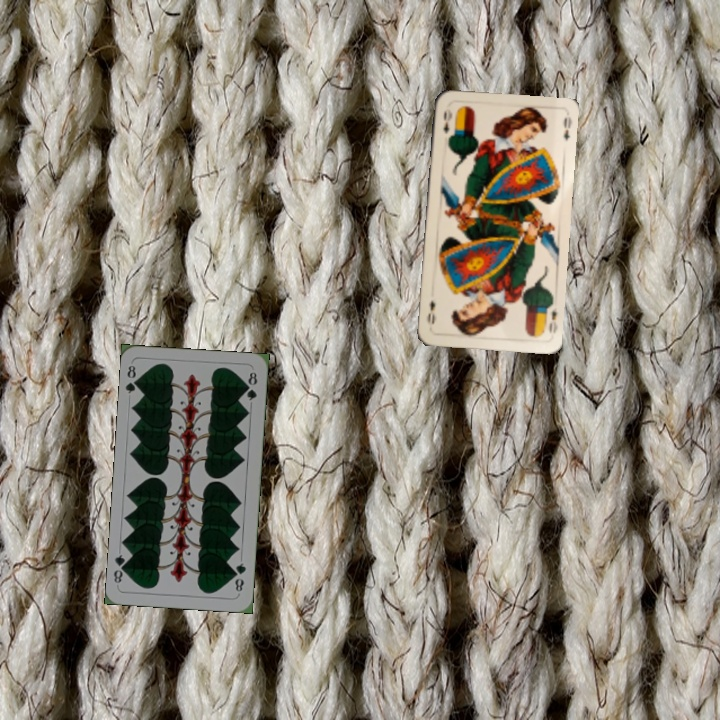EO: (439, 104, 454, 136), (545, 304, 560, 336)
G8: (121, 361, 142, 396), (230, 559, 249, 596)
